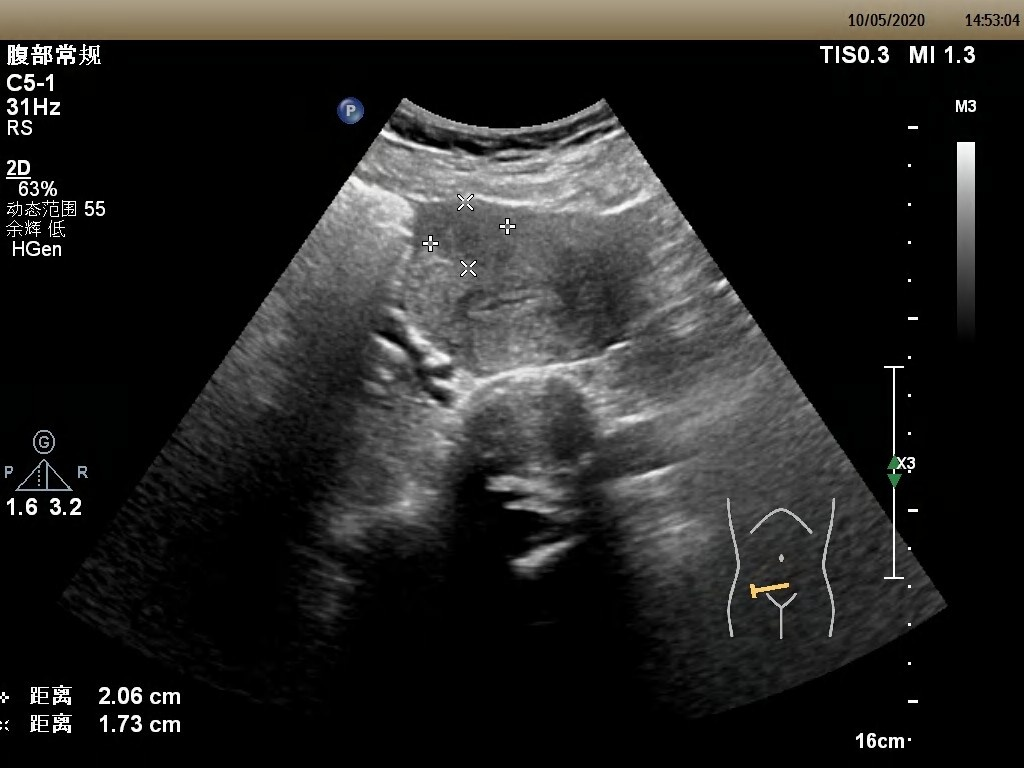肌瘤: (430, 205, 512, 262)
